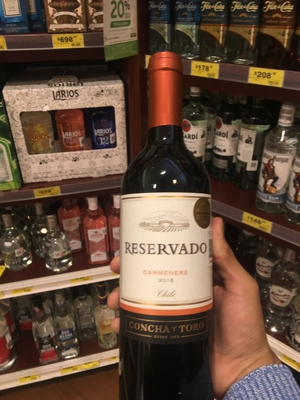reservado carmenere: (116, 46, 226, 400)
